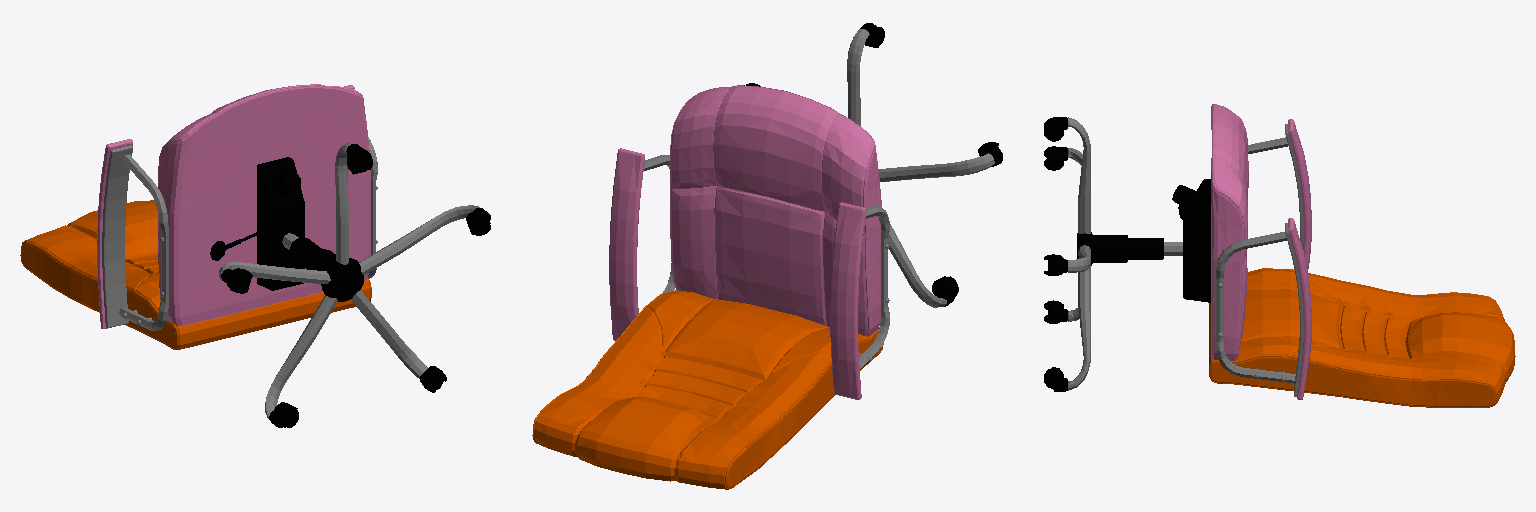
URDF robot description (s__1504):
<robot name="s__1504">


	<link name="0:virtual">
		<visual>
			<origin xyz="0.0 0.0 0.0" rpy="0 0 0"/>
			<geometry>
				<cylinder length="0" radius="0"/>
			</geometry>
		</visual>
	</link>


	<link name="1:static">
		<visual>
			<origin xyz="-0.0 -0.0 -0.0" rpy="0 0 0"/>
			<geometry>
				<mesh filename="../raw_data/s__1504/part_meshes/1.dae" />
			</geometry>
		</visual>
	</link>


	<link name="2:caster 1">
		<visual>
			<origin xyz="-0.1726880817683915 -0.03431604988873005 0.2535004614759138" rpy="0 0 0"/>
			<geometry>
				<mesh filename="../raw_data/s__1504/part_meshes/2.dae" />
			</geometry>
		</visual>
	</link>


	<link name="3:caster 2">
		<visual>
			<origin xyz="0.17268820881031688 -0.03431604988873005 0.25350041136257684" rpy="0 0 0"/>
			<geometry>
				<mesh filename="../raw_data/s__1504/part_meshes/3.dae" />
			</geometry>
		</visual>
	</link>


	<link name="4:caster 3">
		<visual>
			<origin xyz="0.2794399185597632 -0.03431604988873005 -0.07210891907322665" rpy="0 0 0"/>
			<geometry>
				<mesh filename="../raw_data/s__1504/part_meshes/4.dae" />
			</geometry>
		</visual>
	</link>


	<link name="5:backrest 1">
		<visual>
			<origin xyz="-0.0 -0.3603470027446747 0.23086650669574738" rpy="0 0 0"/>
			<geometry>
				<mesh filename="../raw_data/s__1504/part_meshes/5.dae" />
			</geometry>
		</visual>
	</link>


	<link name="6:seat 1">
		<visual>
			<origin xyz="-0.0 -0.4065764993429184 -0.05126550793647766" rpy="0 0 0"/>
			<geometry>
				<mesh filename="../raw_data/s__1504/part_meshes/6.dae" />
			</geometry>
		</visual>
	</link>


	<link name="7:wheel 1">
		<visual>
			<origin xyz="-0.2768285310232935 -0.019832543317044316 -0.07126754771307525" rpy="0 0 0"/>
			<geometry>
				<mesh filename="../raw_data/s__1504/part_meshes/7.dae" />
			</geometry>
		</visual>
	</link>


	<link name="8:wheel 2">
		<visual>
			<origin xyz="-0.17108932663571008 -0.01983253633534421 0.2513194582419507" rpy="0 0 0"/>
			<geometry>
				<mesh filename="../raw_data/s__1504/part_meshes/8.dae" />
			</geometry>
		</visual>
	</link>


	<link name="9:gas lift piece 2">
		<visual>
			<origin xyz="-1.3089108911318315e-09 -0.1397012546658516 0.017893296272549243" rpy="0 0 0"/>
			<geometry>
				<mesh filename="../raw_data/s__1504/part_meshes/9.dae" />
			</geometry>
		</visual>
	</link>


	<link name="10:wheel 3">
		<visual>
			<origin xyz="0.17108949665557513 -0.019832536383294297 0.25131900117946354" rpy="0 0 0"/>
			<geometry>
				<mesh filename="../raw_data/s__1504/part_meshes/10.dae" />
			</geometry>
		</visual>
	</link>


	<link name="11:wheel 4">
		<visual>
			<origin xyz="0.27682844939245504 -0.019832543394594282 -0.07126794576669399" rpy="0 0 0"/>
			<geometry>
				<mesh filename="../raw_data/s__1504/part_meshes/11.dae" />
			</geometry>
		</visual>
	</link>


	<link name="12:wheel 5">
		<visual>
			<origin xyz="-0.0 -0.019832547940854428 -0.27063749730587006" rpy="0 0 0"/>
			<geometry>
				<mesh filename="../raw_data/s__1504/part_meshes/12.dae" />
			</geometry>
		</visual>
	</link>


	<link name="13:lever 1">
		<visual>
			<origin xyz="0.021680368093770774 -0.3463520109653473 -0.000868899357443222" rpy="0 0 0"/>
			<geometry>
				<mesh filename="../raw_data/s__1504/part_meshes/13.dae" />
			</geometry>
		</visual>
	</link>


	<link name="14:knob 1">
		<visual>
			<origin xyz="-0.0010679472846793318 -0.31059399247169495 -0.10447310617651248" rpy="0 0 0"/>
			<geometry>
				<mesh filename="../raw_data/s__1504/part_meshes/14.dae" />
			</geometry>
		</visual>
	</link>


	<link name="15:caster 4">
		<visual>
			<origin xyz="-0.0 -0.03431604988873005 -0.2734000086784363" rpy="0 0 0"/>
			<geometry>
				<mesh filename="../raw_data/s__1504/part_meshes/15.dae" />
			</geometry>
		</visual>
	</link>


	<link name="16:caster 5">
		<visual>
			<origin xyz="-0.27943994968227437 -0.03431604988873005 -0.07210874297944554" rpy="0 0 0"/>
			<geometry>
				<mesh filename="../raw_data/s__1504/part_meshes/16.dae" />
			</geometry>
		</visual>
	</link>


	<joint name="0:virtual::1:static" type="fixed">
		<parent link="0:virtual"/>
		<child link="1:static"/>
		<origin xyz="0.0 0.0 0.0" rpy="0 0 0"/>
	</joint>


	<joint name="0:virtual::2:caster 1_rotation" type="revolute">
		<parent link="0:virtual"/>
		<child link="2:caster 1"/>
		<origin xyz="0.1726880817683915 0.03431604988873005 -0.2535004614759138" rpy="0 0 0"/>
		<limit lower="-3.141592653589793" upper="3.141592653589793" effort="10" velocity="3"/>
		<axis xyz="0.0 1.0 0.0"/>
	</joint>


	<joint name="0:virtual::3:caster 2_rotation" type="revolute">
		<parent link="0:virtual"/>
		<child link="3:caster 2"/>
		<origin xyz="-0.17268820881031688 0.03431604988873005 -0.25350041136257684" rpy="0 0 0"/>
		<limit lower="-3.141592653589793" upper="3.141592653589793" effort="10" velocity="3"/>
		<axis xyz="0.0 1.0 0.0"/>
	</joint>


	<joint name="0:virtual::4:caster 3_rotation" type="revolute">
		<parent link="0:virtual"/>
		<child link="4:caster 3"/>
		<origin xyz="-0.2794399185597632 0.03431604988873005 0.07210891907322665" rpy="0 0 0"/>
		<limit lower="-3.141592653589793" upper="3.141592653589793" effort="10" velocity="3"/>
		<axis xyz="0.0 1.0 0.0"/>
	</joint>


	<joint name="6:seat 1::5:backrest 1_rotation" type="revolute">
		<parent link="6:seat 1"/>
		<child link="5:backrest 1"/>
		<origin xyz="0.0 -0.04622949659824371 -0.28213201463222504" rpy="0 0 0"/>
		<limit lower="-0.3141592653589793" upper="0.25132741228718347" effort="10" velocity="3"/>
		<axis xyz="-1.0 0.0 0.0"/>
	</joint>


	<joint name="9:gas lift piece 2::6:seat 1_translation" type="prismatic">
		<parent link="9:gas lift piece 2"/>
		<child link="6:seat 1"/>
		<origin xyz="-1.3089108911318315e-09 0.2668752446770668 0.0691588042090269" rpy="0 0 0"/>
		<limit lower="-0.030886992812156677" upper="0.030886992812156677" effort="10" velocity="3"/>
		<axis xyz="0.0 1.0 0.0"/>
	</joint>


	<joint name="0:virtual::7:wheel 1_rotation" type="revolute">
		<parent link="0:virtual"/>
		<child link="7:wheel 1"/>
		<origin xyz="0.2768285310232935 0.019832543317044316 0.07126754771307525" rpy="0 0 0"/>
		<limit lower="-3.141592653589793" upper="3.141592653589793" effort="10" velocity="3"/>
		<axis xyz="-0.3114833270056346 0.0 0.9502516177294839"/>
	</joint>


	<joint name="0:virtual::8:wheel 2_rotation" type="revolute">
		<parent link="0:virtual"/>
		<child link="8:wheel 2"/>
		<origin xyz="0.17108932663571008 0.01983253633534421 -0.2513194582419507" rpy="0 0 0"/>
		<limit lower="-3.141592653589793" upper="3.141592653589793" effort="10" velocity="3"/>
		<axis xyz="-0.8114636493271234 0.0 -0.5844028968277856"/>
	</joint>


	<joint name="0:virtual::9:gas lift piece 2_rotation" type="revolute">
		<parent link="0:virtual"/>
		<child link="9:gas lift piece 2"/>
		<origin xyz="1.3089108911318315e-09 0.1397012546658516 -0.017893296272549243" rpy="0 0 0"/>
		<limit lower="-3.141592653589793" upper="3.141592653589793" effort="10" velocity="3"/>
		<axis xyz="0.0 1.0 0.0"/>
	</joint>


	<joint name="0:virtual::10:wheel 3_rotation" type="revolute">
		<parent link="0:virtual"/>
		<child link="10:wheel 3"/>
		<origin xyz="-0.17108949665557513 0.019832536383294297 -0.25131900117946354" rpy="0 0 0"/>
		<limit lower="-3.141592653589793" upper="3.141592653589793" effort="10" velocity="3"/>
		<axis xyz="0.8114573779861489 0.0 -0.5844116047032643"/>
	</joint>


	<joint name="0:virtual::11:wheel 4_rotation" type="revolute">
		<parent link="0:virtual"/>
		<child link="11:wheel 4"/>
		<origin xyz="-0.27682844939245504 0.019832543394594282 0.07126794576669399" rpy="0 0 0"/>
		<limit lower="-3.141592653589793" upper="3.141592653589793" effort="10" velocity="3"/>
		<axis xyz="-0.31146740184651406 0.0 -0.9502568376954633"/>
	</joint>


	<joint name="0:virtual::12:wheel 5_rotation" type="revolute">
		<parent link="0:virtual"/>
		<child link="12:wheel 5"/>
		<origin xyz="0.0 0.019832547940854428 0.27063749730587006" rpy="0 0 0"/>
		<limit lower="-3.141592653589793" upper="3.141592653589793" effort="10" velocity="3"/>
		<axis xyz="1.0 0.0 0.0"/>
	</joint>


	<joint name="9:gas lift piece 2::13:lever 1_rotation" type="revolute">
		<parent link="9:gas lift piece 2"/>
		<child link="13:lever 1"/>
		<origin xyz="-0.021680369402681664 0.2066507562994957 0.018762195629992463" rpy="0 0 0"/>
		<limit lower="-0.1413716694115407" upper="0.25132741228718347" effort="10" velocity="3"/>
		<axis xyz="-0.13127950170753452 0.0 -0.9913453951229215"/>
	</joint>


	<joint name="9:gas lift piece 2::14:knob 1_rotation" type="revolute">
		<parent link="9:gas lift piece 2"/>
		<child link="14:knob 1"/>
		<origin xyz="0.0010679459757684407 0.17089273780584335 0.12236640244906172" rpy="0 0 0"/>
		<limit lower="-0.4084070449666731" upper="0.1413716694115407" effort="10" velocity="3"/>
		<axis xyz="0.0 1.0 0.0"/>
	</joint>


	<joint name="0:virtual::15:caster 4_rotation" type="revolute">
		<parent link="0:virtual"/>
		<child link="15:caster 4"/>
		<origin xyz="0.0 0.03431604988873005 0.2734000086784363" rpy="0 0 0"/>
		<limit lower="-3.141592653589793" upper="3.141592653589793" effort="10" velocity="3"/>
		<axis xyz="0.0 1.0 0.0"/>
	</joint>


	<joint name="0:virtual::16:caster 5_rotation" type="revolute">
		<parent link="0:virtual"/>
		<child link="16:caster 5"/>
		<origin xyz="0.27943994968227437 0.03431604988873005 0.07210874297944554" rpy="0 0 0"/>
		<limit lower="-3.141592653589793" upper="3.141592653589793" effort="10" velocity="3"/>
		<axis xyz="0.0 1.0 0.0"/>
	</joint>


</robot>

--- Facts derived from the render (not from the file) ---
3 views of the same robot in one strip: view 1: azimuth 30°, elevation 25°; view 2: azimuth 150°, elevation 25°; view 3: azimuth 270°, elevation 25° (orthographic).
Model s__1504 with 17 links and 16 joints (14 revolute, 1 prismatic, 1 fixed), rooted at 0:virtual, posed every joint at zero.
Links seen in each view (by area): view 1: 6:seat 1, 5:backrest 1, 1:static, 9:gas lift piece 2, 14:knob 1; view 2: 6:seat 1, 5:backrest 1, 1:static; view 3: 5:backrest 1, 6:seat 1, 9:gas lift piece 2, 1:static.
Boxes of the visible links, x1,y1,x2,y2 form: 6:seat 1: [97, 84, 377, 330]; 5:backrest 1: [20, 200, 371, 349]; 1:static: [219, 143, 485, 422]; 9:gas lift piece 2: [257, 157, 335, 290]; 14:knob 1: [272, 171, 300, 195]; 6:seat 1: [609, 85, 889, 399]; 5:backrest 1: [532, 290, 883, 489]; 1:static: [847, 29, 994, 307]; 5:backrest 1: [1209, 268, 1515, 407]; 6:seat 1: [1211, 104, 1311, 399]; 9:gas lift piece 2: [1093, 179, 1210, 302]; 1:static: [1048, 117, 1092, 390].
Size in the robot's own frame: 0.61 by 1.03 by 0.6 metres.
Meshes: 16 distinct files referenced, 16 mesh visuals loaded (16 Collada DAE).